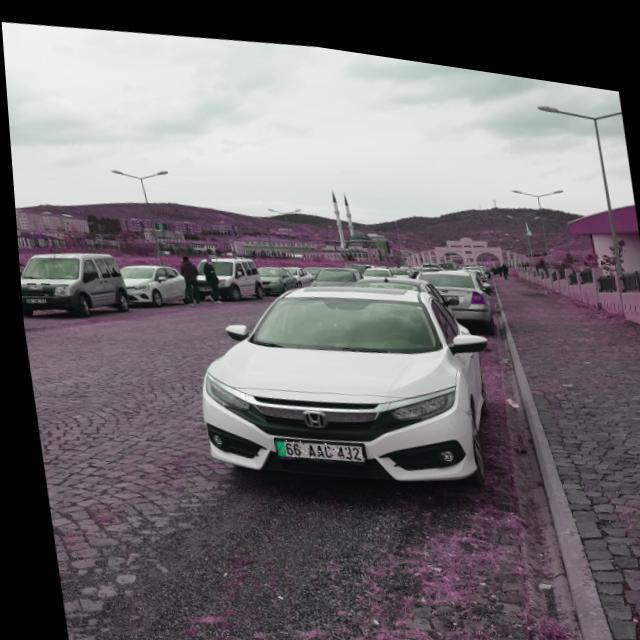license_plate: (269, 425, 359, 458)
